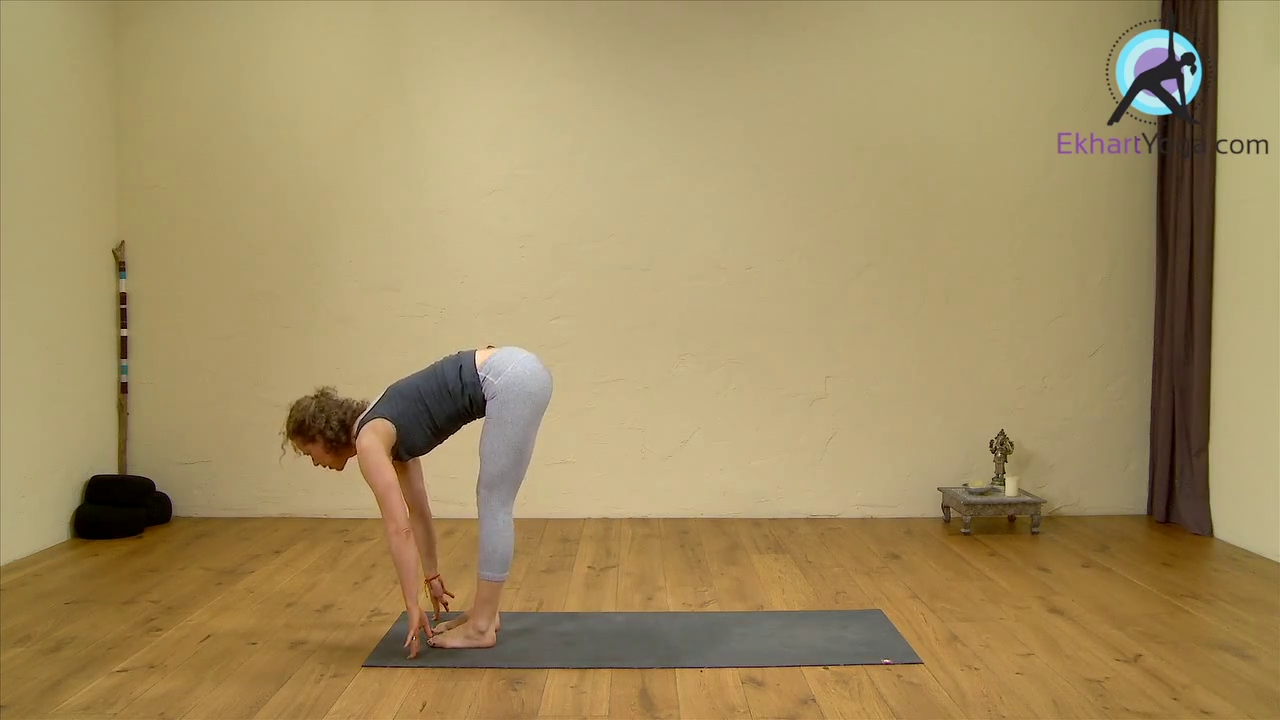person: (286, 346, 554, 660)
